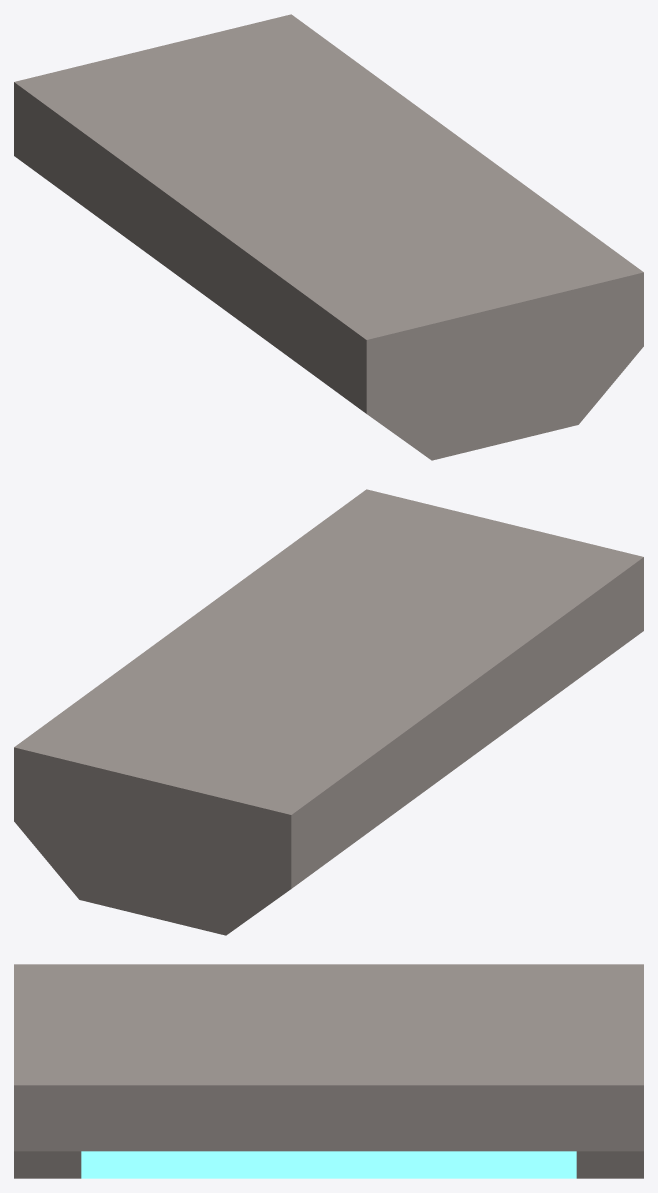
Rendered from CeilingLamp.fbx.
The picture shows the model from 3 angles, top to bottom: view 1: azimuth 30°, elevation 25°; view 2: azimuth 150°, elevation 25°; view 3: azimuth 270°, elevation 25°; orthographic projection. The views are drawn at different scales.
Visible parts, largest first — view 1: Cube; view 2: Cube; view 3: Cube.
Boxes of the visible parts, x1=… form: Cube: x1=14, y1=14, x2=643, y2=460; Cube: x1=14, y1=489, x2=643, y2=935; Cube: x1=14, y1=964, x2=643, y2=1178.
Size of the model in its own units: 150 by 70.73 by 331.
